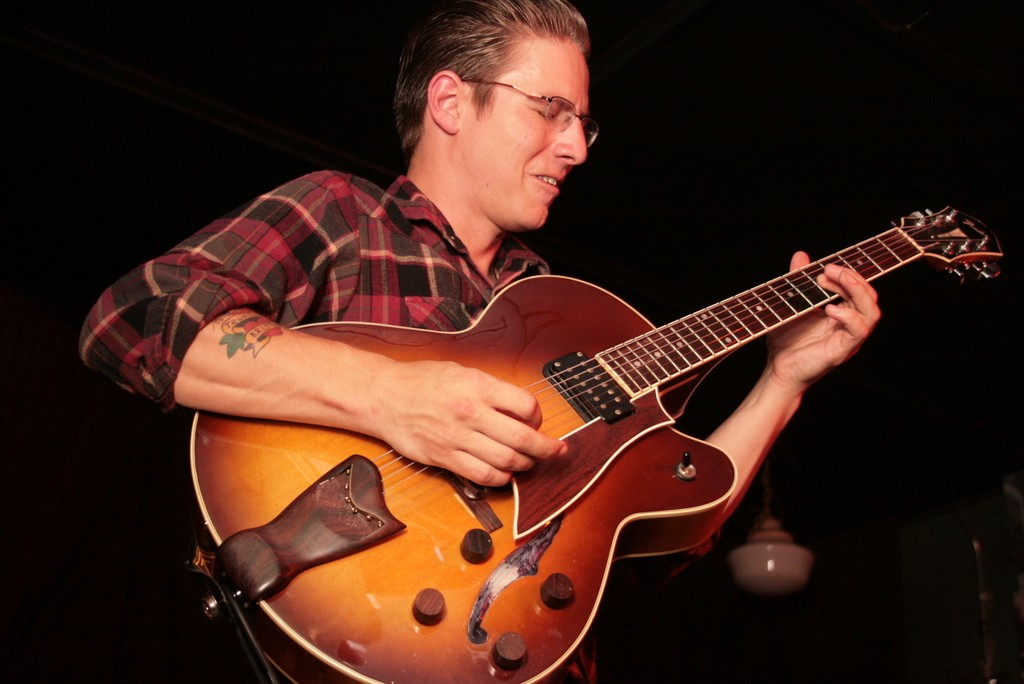guitar: (191, 204, 1004, 684)
